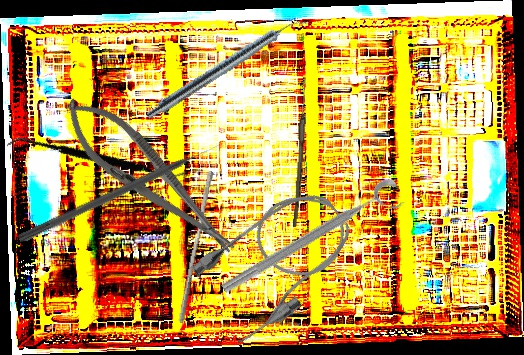Cannula: (183, 174, 370, 351)
Fixation Ring: (217, 175, 409, 309)
Handpiece: (143, 9, 309, 126)
Needle Holder: (50, 84, 249, 271)
Pusher: (16, 140, 224, 246), (178, 170, 214, 324)
Spatula Surgical: (5, 87, 188, 231)
Surgical Spoon: (293, 77, 308, 228)
